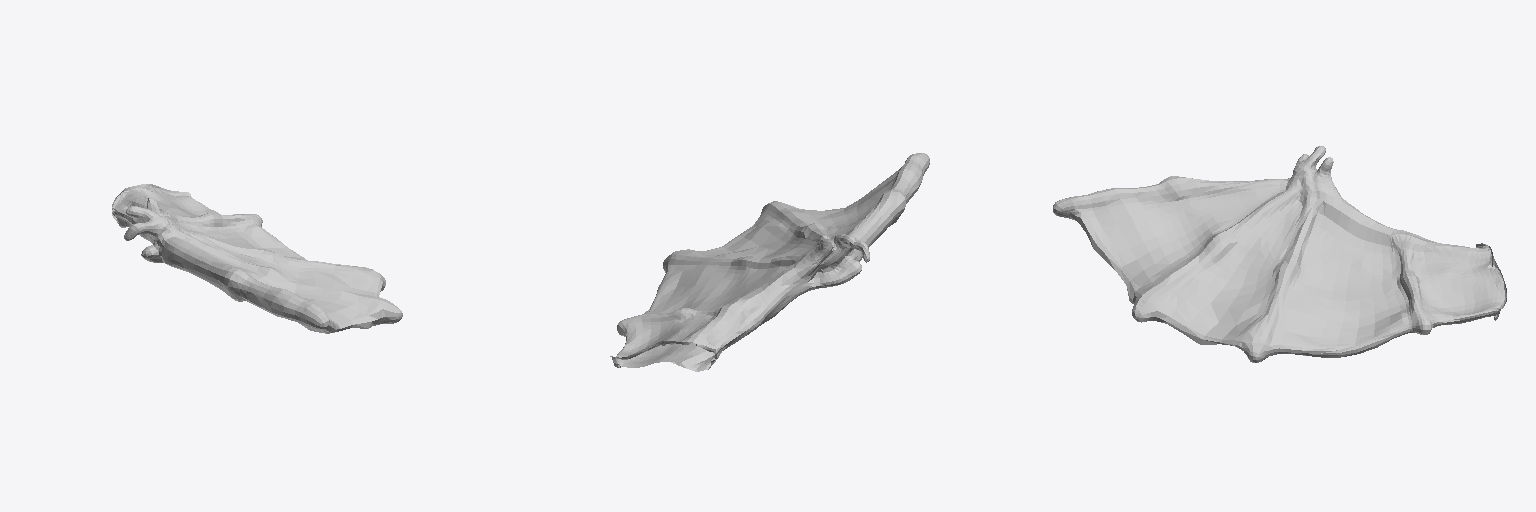
Rendered from Ala2Tiamat.obj.
3 renders of one model, left to right at view 1: azimuth 30°, elevation 25°; view 2: azimuth 150°, elevation 25°; view 3: azimuth 270°, elevation 25°, orthographic.
Parts seen in each view (by area): view 1: Ala2Tiamat; view 2: Ala2Tiamat; view 3: Ala2Tiamat.
Boxes of the visible parts, x1=… form: Ala2Tiamat: x1=112, y1=184, x2=402, y2=333; Ala2Tiamat: x1=610, y1=153, x2=929, y2=371; Ala2Tiamat: x1=1053, y1=146, x2=1506, y2=362.
Bounding box in the file's own units: 4.5 × 2.2 × 7.6.